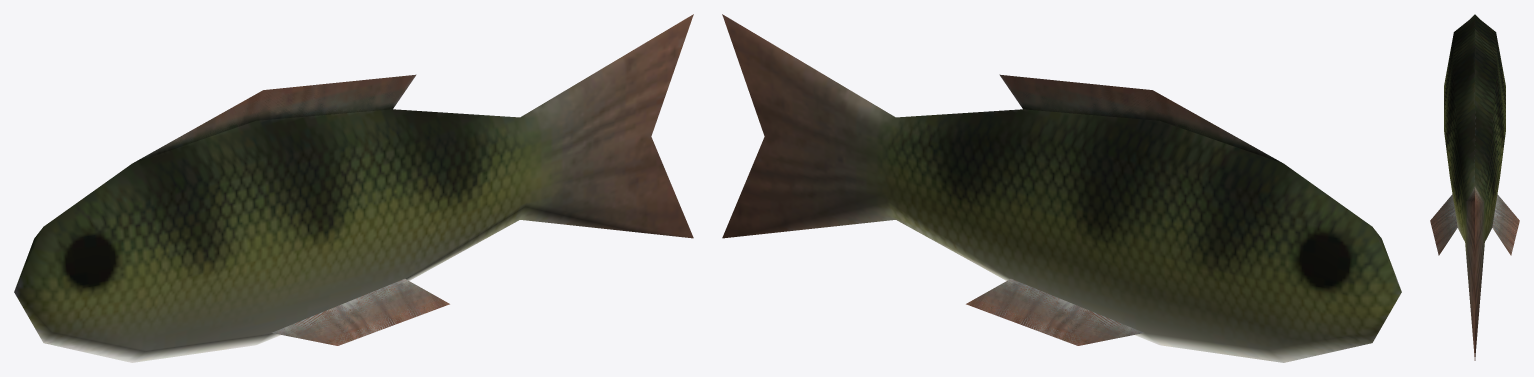
File: fish.dae
3 views of the same model, side by side, from view 1: azimuth 30°, elevation 25°; view 2: azimuth 150°, elevation 25°; view 3: azimuth 270°, elevation 25° (orthographic). The views are drawn at different scales.
Parts seen in each view (by area): view 1: pCube1, pCube2; view 2: pCube1, pCube2; view 3: pCube1, pCube2.
Boxes of the visible parts, <box> form: pCube1: <box>14,14,693,362</box>; pCube2: <box>155,75,441,344</box>; pCube1: <box>722,14,1401,362</box>; pCube2: <box>974,75,1260,344</box>; pCube1: <box>1430,14,1519,360</box>; pCube2: <box>1431,200,1518,254</box>.
Size of the model in its own units: 0.4888 by 0.1741 by 0.0781.
